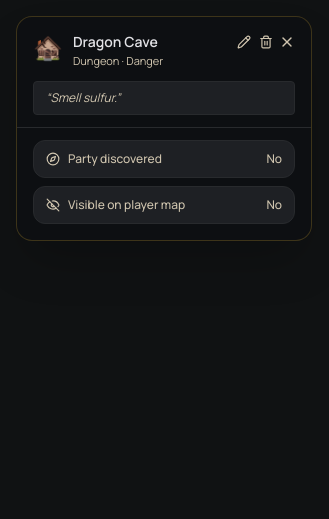
Test: MapPoIInfoCard — edit mode › edit form pre-fills player_hint from current poi.player_hint
Click the button titled "Edit details" at (244, 42), box [235,33,253,51]
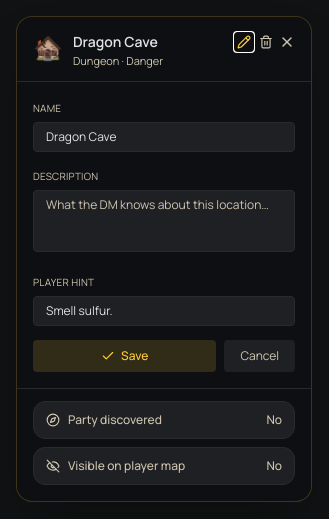
Result: the field showing "Smell sulfur." below "Player hint" is shown at [33,296,295,326]
